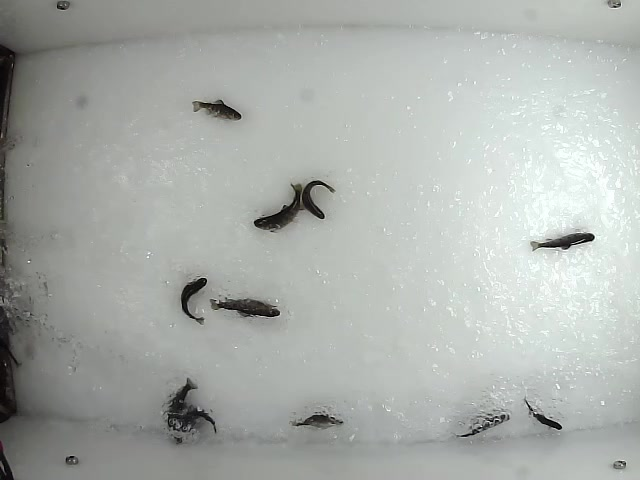fish: (252, 179, 303, 234), (164, 377, 198, 445), (208, 296, 282, 322), (294, 179, 337, 221), (452, 412, 512, 440), (529, 230, 597, 252), (180, 274, 208, 327), (522, 396, 562, 429), (190, 99, 243, 123), (177, 409, 219, 435), (291, 411, 344, 429)
